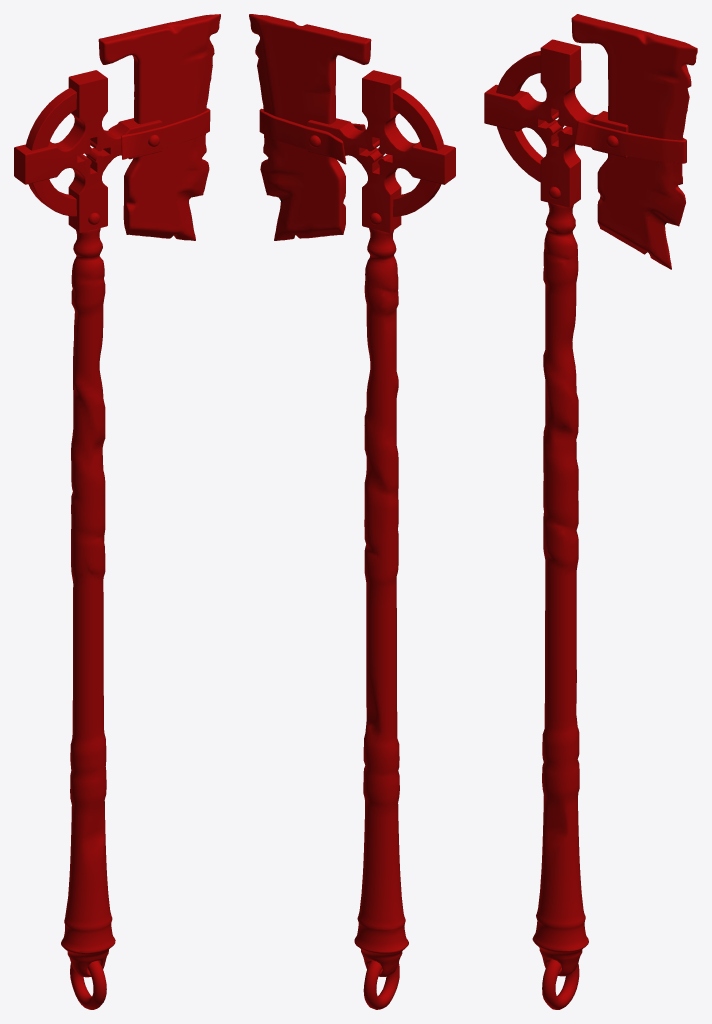
File: HolyAxe_low.fbx
3 views of the same model, side by side, from view 1: azimuth 30°, elevation 25°; view 2: azimuth 150°, elevation 25°; view 3: azimuth 330°, elevation 25° (orthographic). The views are drawn at different scales.
Parts seen in each view (by area): view 1: Staff_low, AxeHead_low, Cross_low, Crescent_low, LeatherStrap_low1, Ring_low; view 2: Staff_low, AxeHead_low, Cross_low, Crescent_low, LeatherStrap_low1, Ring_low; view 3: Staff_low, AxeHead_low, Cross_low, LeatherStrap_low1, Crescent_low, Ring_low.
Part boxes in pixels (x1=…): Staff_low: x1=61, y1=228, x2=115, y2=977; AxeHead_low: x1=98, y1=14, x2=220, y2=240; Cross_low: x1=14, y1=70, x2=162, y2=232; Crescent_low: x1=25, y1=87, x2=76, y2=216; LeatherStrap_low1: x1=108, y1=108, x2=210, y2=159; Ring_low: x1=70, y1=960, x2=106, y2=1009; Staff_low: x1=354, y1=228, x2=408, y2=976; AxeHead_low: x1=249, y1=14, x2=371, y2=240; Cross_low: x1=307, y1=70, x2=455, y2=232; Crescent_low: x1=393, y1=88, x2=444, y2=216; LeatherStrap_low1: x1=259, y1=108, x2=365, y2=164; Ring_low: x1=363, y1=960, x2=399, y2=1009; Staff_low: x1=532, y1=202, x2=588, y2=976; AxeHead_low: x1=571, y1=14, x2=697, y2=269; Cross_low: x1=484, y1=39, x2=628, y2=207; LeatherStrap_low1: x1=574, y1=120, x2=686, y2=163; Crescent_low: x1=496, y1=51, x2=543, y2=182; Ring_low: x1=542, y1=959, x2=579, y2=1009.
Bounding box in the file's own units: 6.77 × 30.98 × 1.74.
